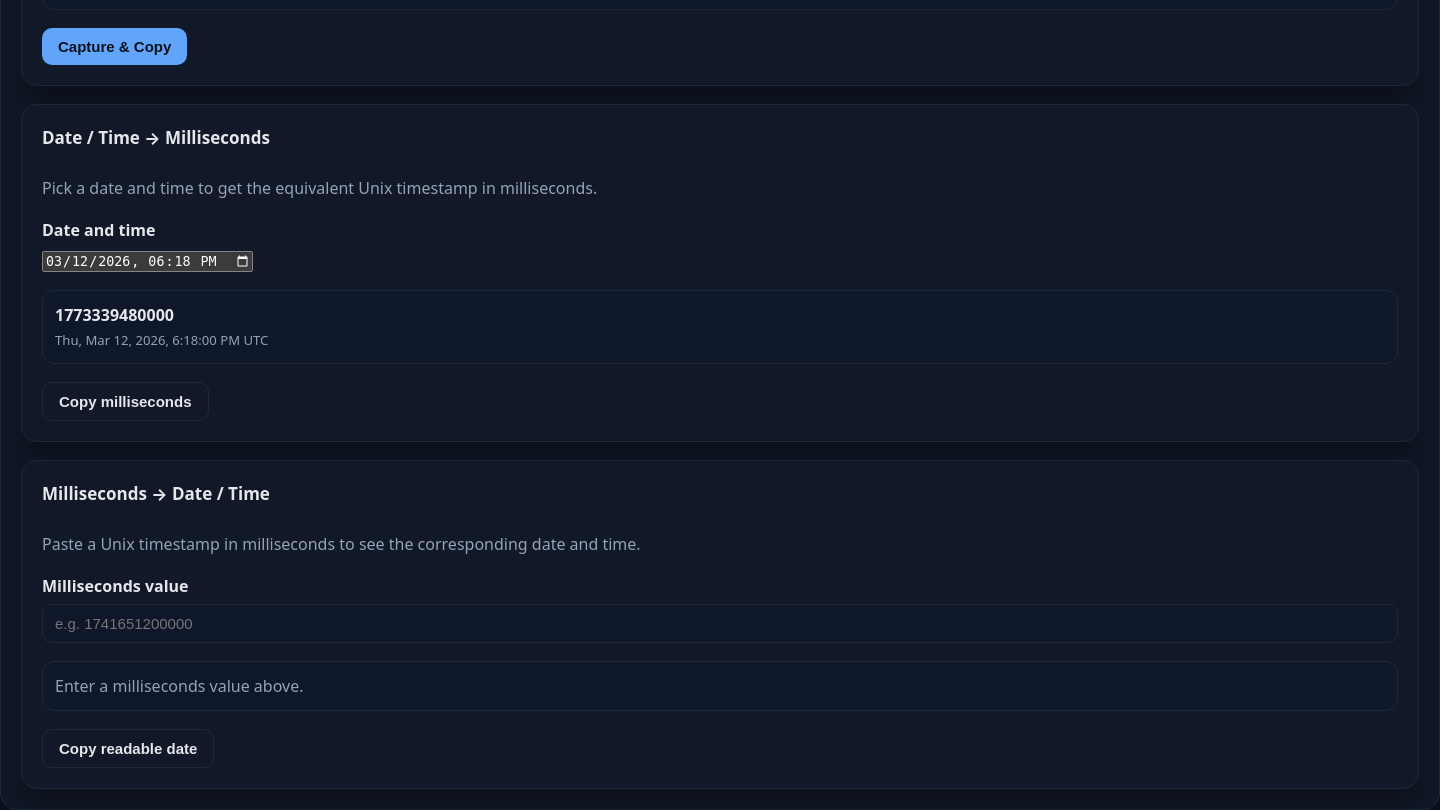
CBCMillisPage › entering an invalid ms value shows an error hint
(page scrolled)
Type "not-a-number" into the field labelled "Milliseconds value" at (720, 624), box [42,604,1398,643]
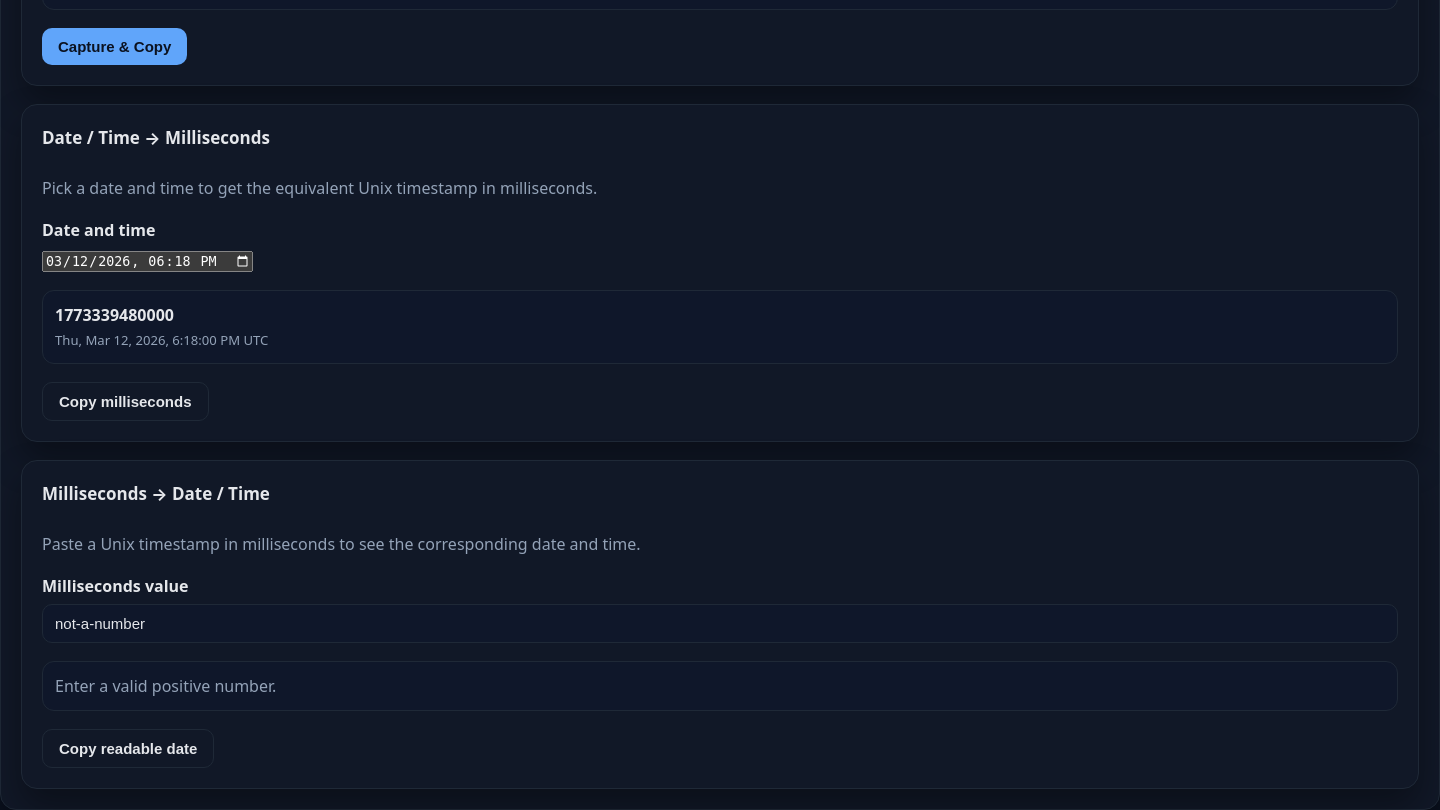
Check: the text "Enter a valid positive number." is shown, box [55,675,276,697]
